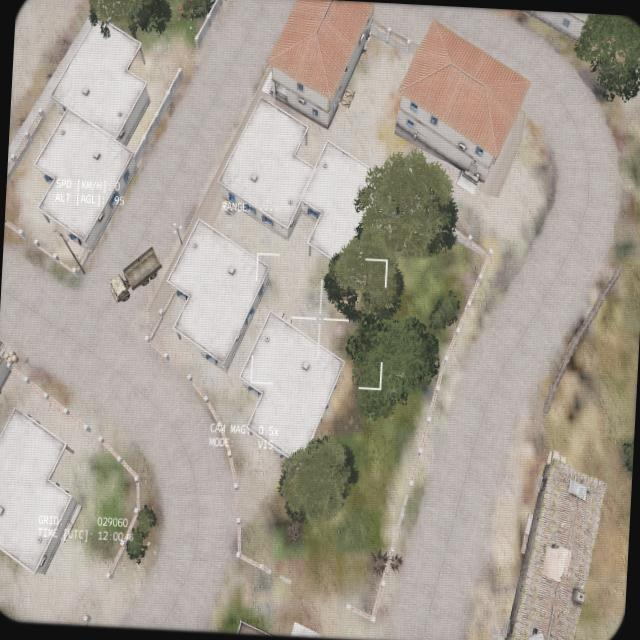truck: (107, 242, 163, 306)
